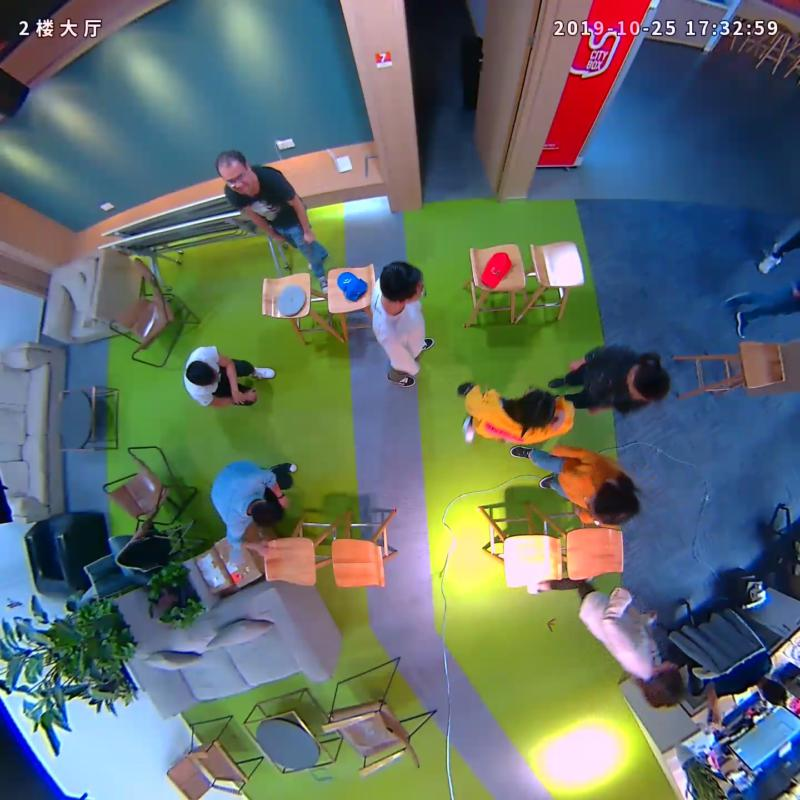head: (370, 253, 433, 311), (638, 655, 694, 718), (588, 472, 644, 532), (209, 146, 262, 202), (507, 384, 565, 434), (624, 351, 672, 410), (244, 496, 286, 538), (182, 353, 220, 391)
